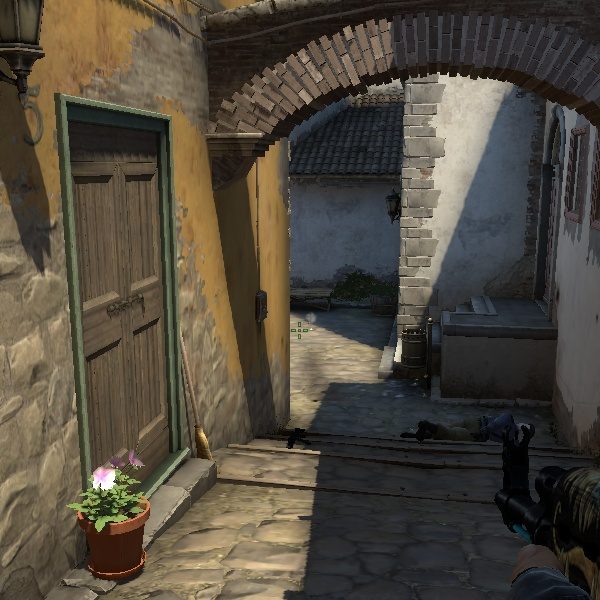ct_body: (67, 441, 170, 594)
